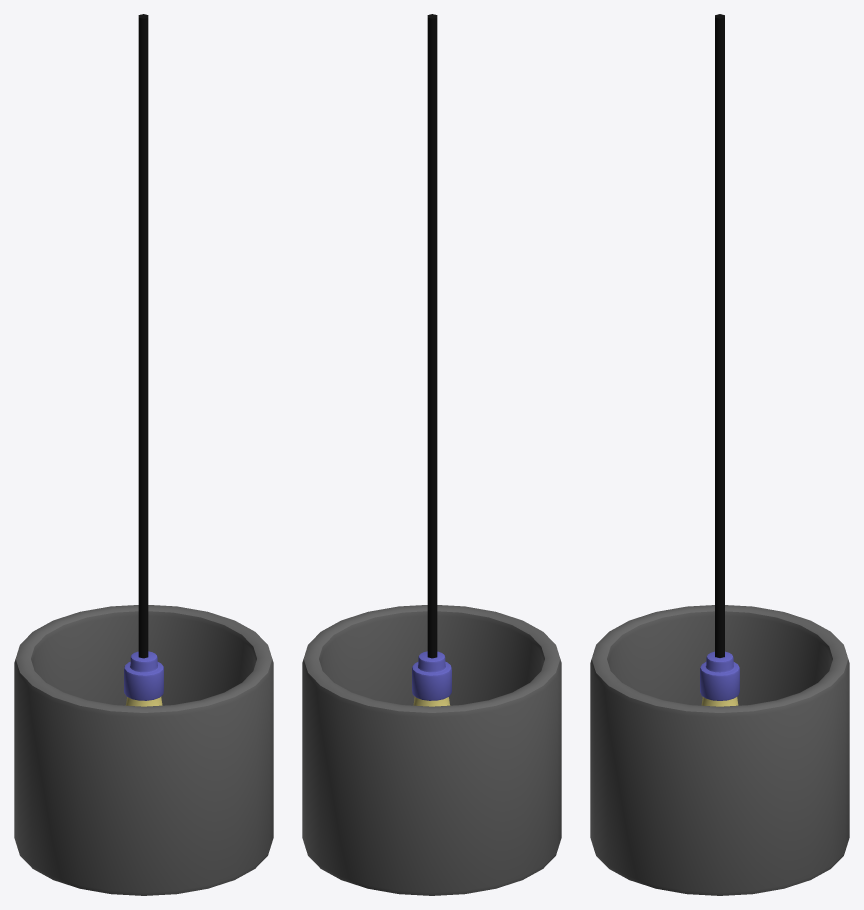
Rendered from SM_lamp_ceiling_05.fbx.
The picture shows the model from 3 angles, left to right: view 1: azimuth 30°, elevation 25°; view 2: azimuth 150°, elevation 25°; view 3: azimuth 270°, elevation 25°; orthographic projection.
Visible parts, largest first — view 1: Line009; view 2: Line009; view 3: Line009.
Part boxes in pixels (left/top/right/bottom): Line009: left=14, top=14, right=273, bottom=895; Line009: left=302, top=14, right=561, bottom=895; Line009: left=590, top=14, right=849, bottom=895.
Size of the model in its own units: 23.69 by 83.34 by 23.69.
